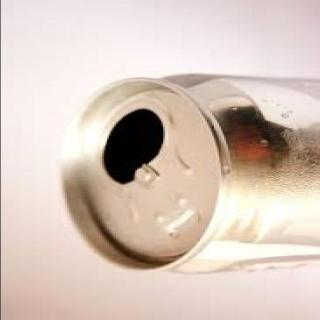Anorganik: (53, 70, 320, 284)
